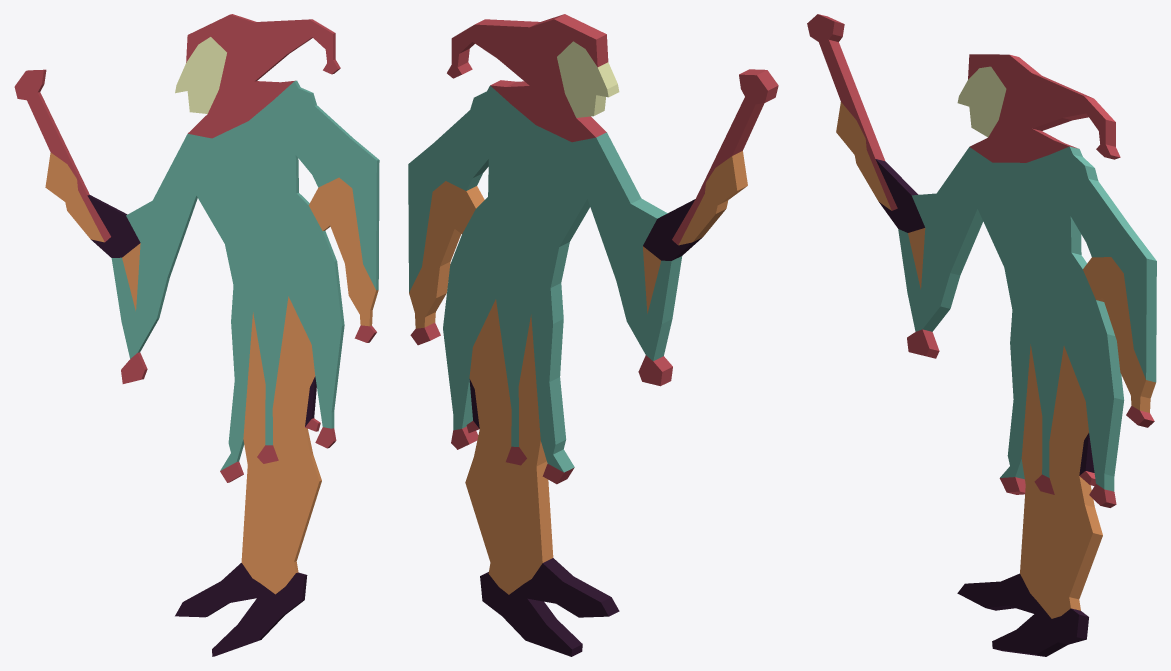
Rendered from Jester.glb.
The picture shows the model from 3 angles, left to right: view 1: azimuth 30°, elevation 25°; view 2: azimuth 150°, elevation 25°; view 3: azimuth 330°, elevation 25°; orthographic projection. The views are drawn at different scales.
Parts seen in each view (by area): view 1: Plane; view 2: Plane; view 3: Plane.
Boxes of the visible parts, x1=… form: Plane: x1=14, y1=14, x2=379, y2=656; Plane: x1=408, y1=14, x2=778, y2=656; Plane: x1=807, y1=14, x2=1156, y2=656.
Bounding box in the file's own units: 2.54 × 4.23 × 0.0487.
